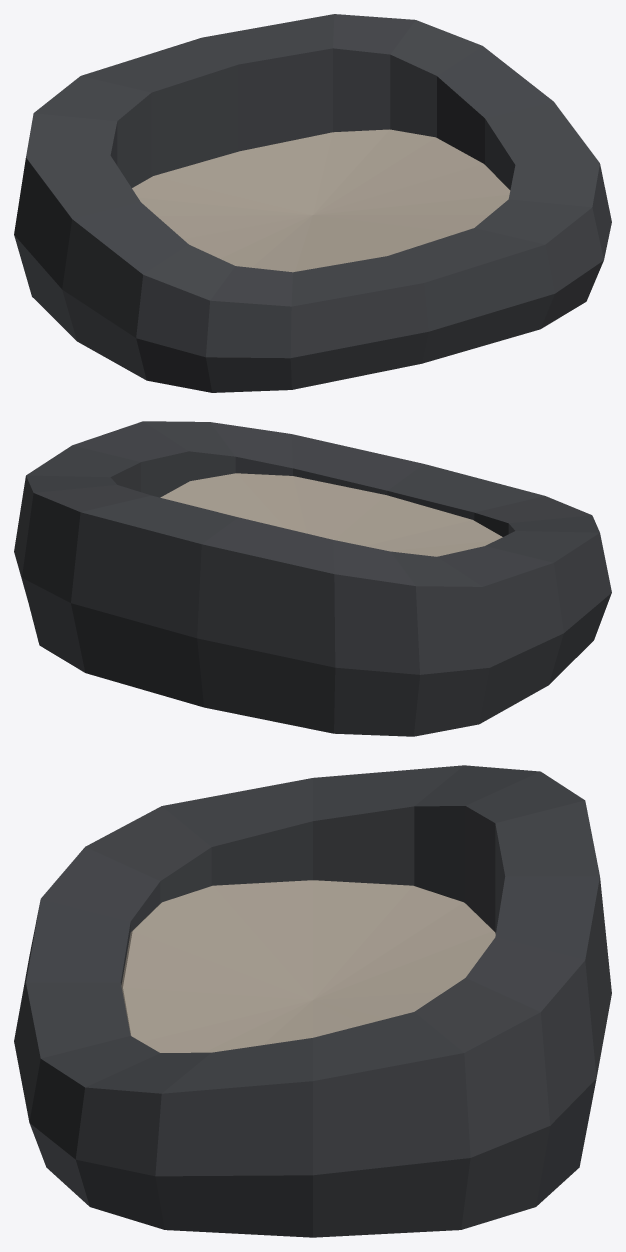
File: FN_Bed_Dog.obj
The picture shows the model from 3 angles, top to bottom: view 1: azimuth 30°, elevation 25°; view 2: azimuth 150°, elevation 25°; view 3: azimuth 270°, elevation 25°; orthographic projection. The views are drawn at different scales.
Parts seen in each view (by area): view 1: FN_Bed_Dog; view 2: FN_Bed_Dog; view 3: FN_Bed_Dog.
Boxes of the visible parts, x1,y1,x2,y2 form: FN_Bed_Dog: [14, 14, 611, 392]; FN_Bed_Dog: [14, 421, 611, 736]; FN_Bed_Dog: [14, 765, 611, 1237].
Size of the model in its own units: 0.7 by 0.22 by 0.56.
1 material, 1 textured.
